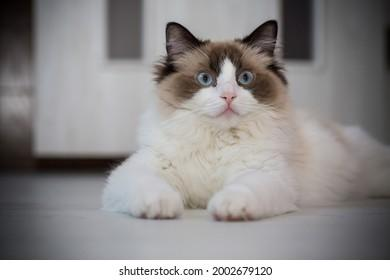ragdoll: (151, 1, 297, 152)
